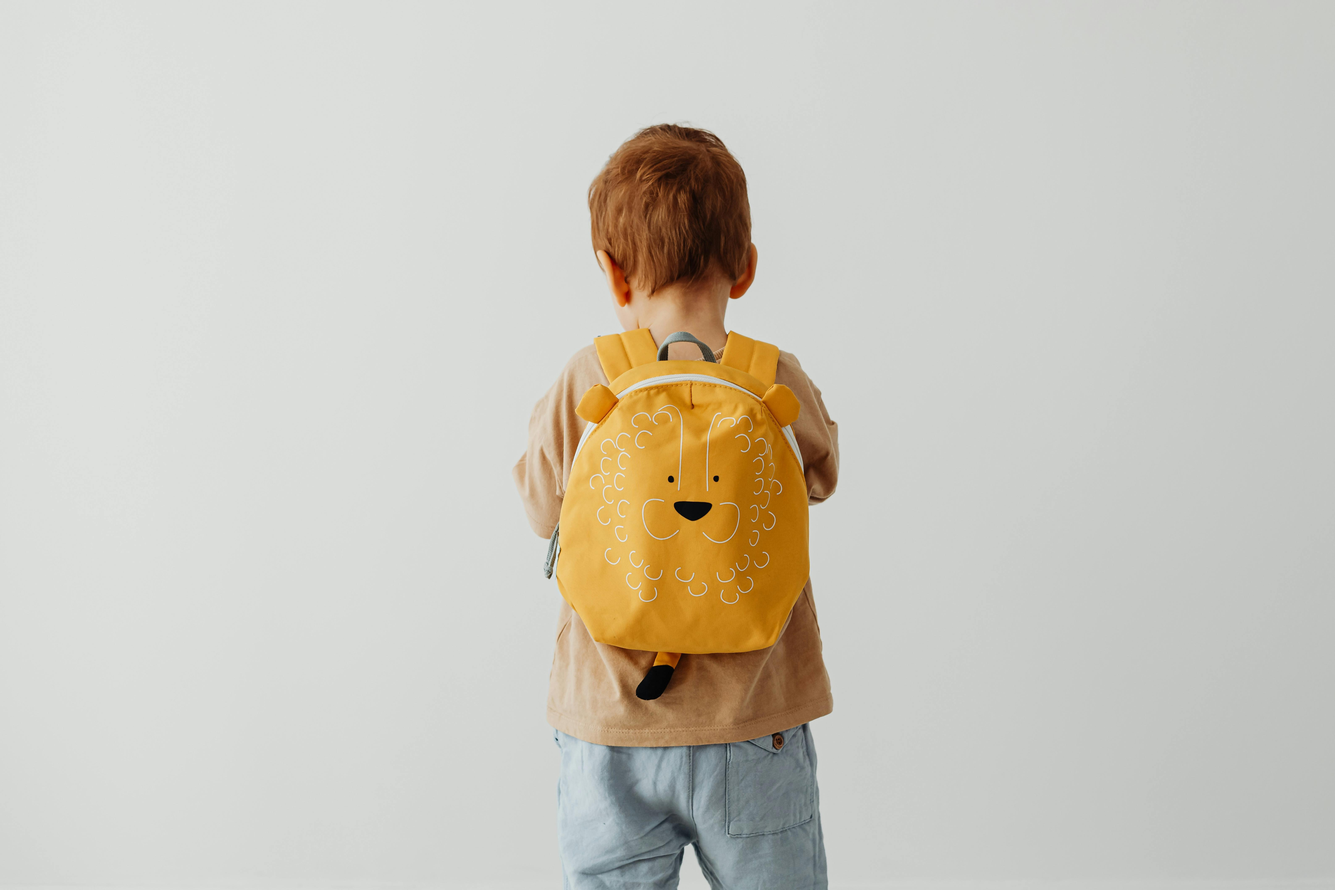Human: (517, 66, 916, 876)
